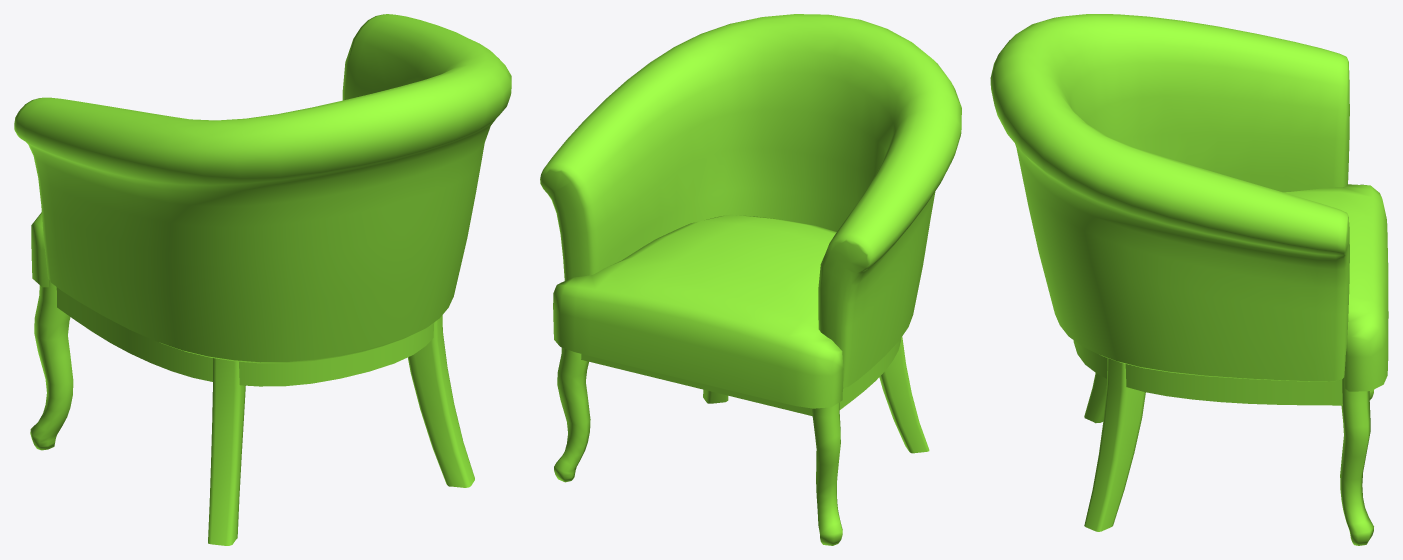
File: CHAIR 4.glb
3 renders of one model, left to right at view 1: azimuth 30°, elevation 25°; view 2: azimuth 150°, elevation 25°; view 3: azimuth 270°, elevation 25°, orthographic. The views are drawn at different scales.
Visible parts, largest first — view 1: chair_5; view 2: chair_5; view 3: chair_5.
Boxes of the visible parts, left/top/right/bottom form: chair_5: left=14, top=14, right=511, bottom=545; chair_5: left=540, top=14, right=961, bottom=545; chair_5: left=990, top=14, right=1388, bottom=545.
Size of the model in its own units: 0.9379 by 1.01 by 0.8726.
